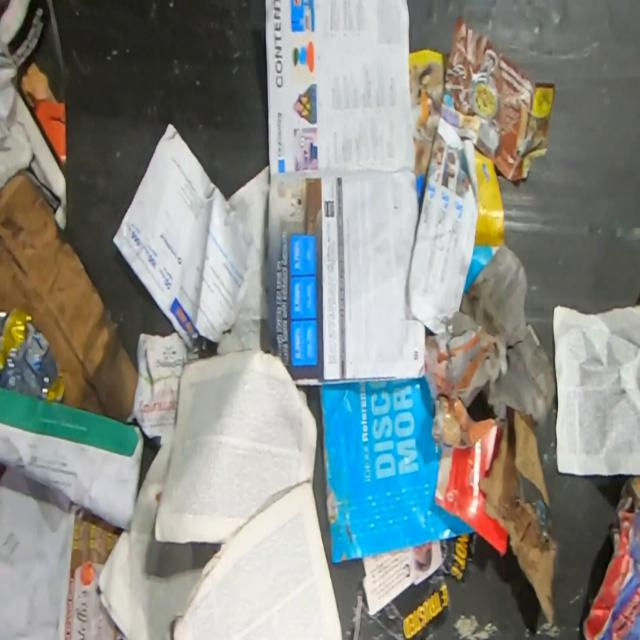cardboard: (0, 168, 139, 423), (479, 408, 557, 625)
metal: (0, 306, 66, 403)
